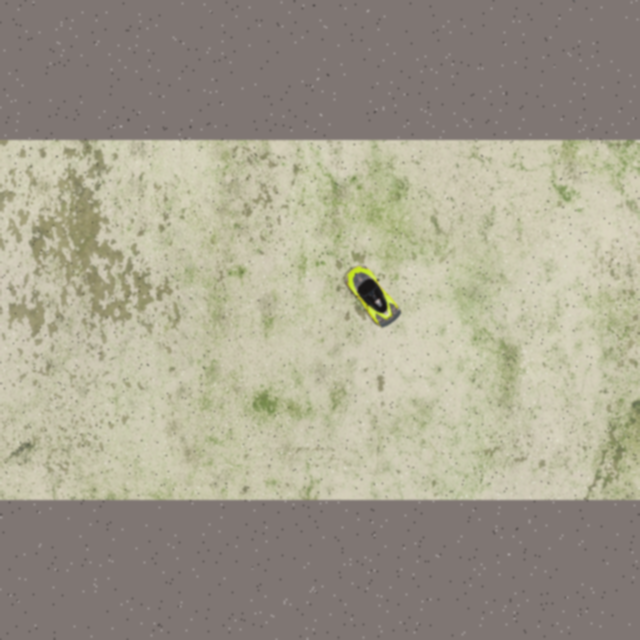car: (339, 259, 405, 332)
